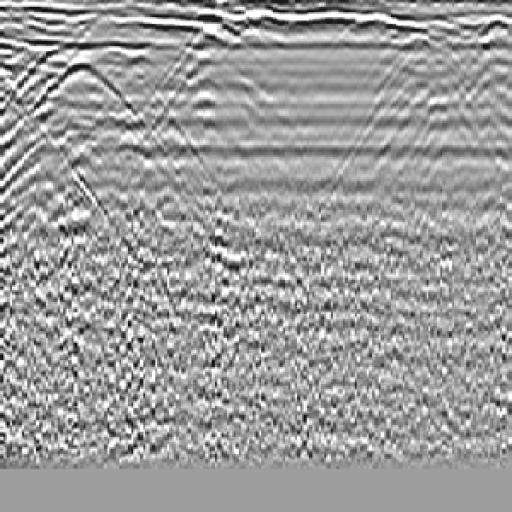non-metallic: (1, 42, 205, 282)
